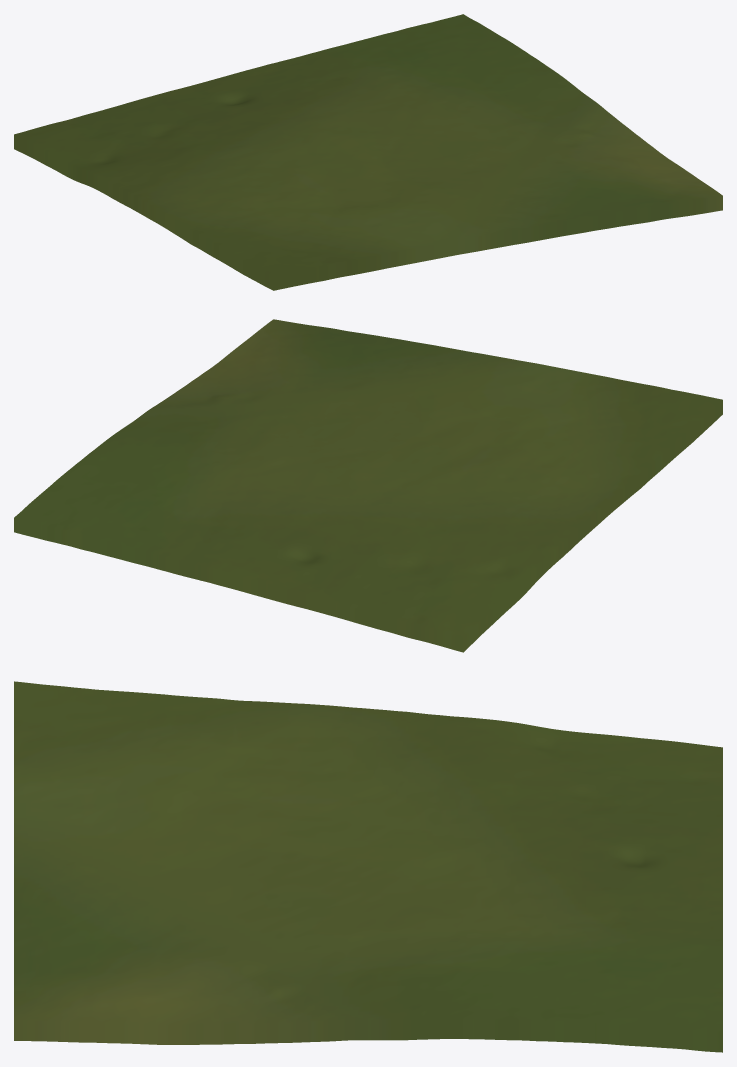
Rendered from terrain_5_-9.glb.
The picture shows the model from 3 angles, top to bottom: view 1: azimuth 30°, elevation 25°; view 2: azimuth 150°, elevation 25°; view 3: azimuth 270°, elevation 25°; orthographic projection. The views are drawn at different scales.
Visible parts, largest first — view 1: terrain_5_-9; view 2: terrain_5_-9; view 3: terrain_5_-9.
Boxes of the visible parts, x1,y1,x2,y2 form: terrain_5_-9: (14, 14, 722, 290); terrain_5_-9: (14, 319, 722, 652); terrain_5_-9: (14, 681, 722, 1052).
Bounding box in the file's own units: 256 × 34.27 × 256.
